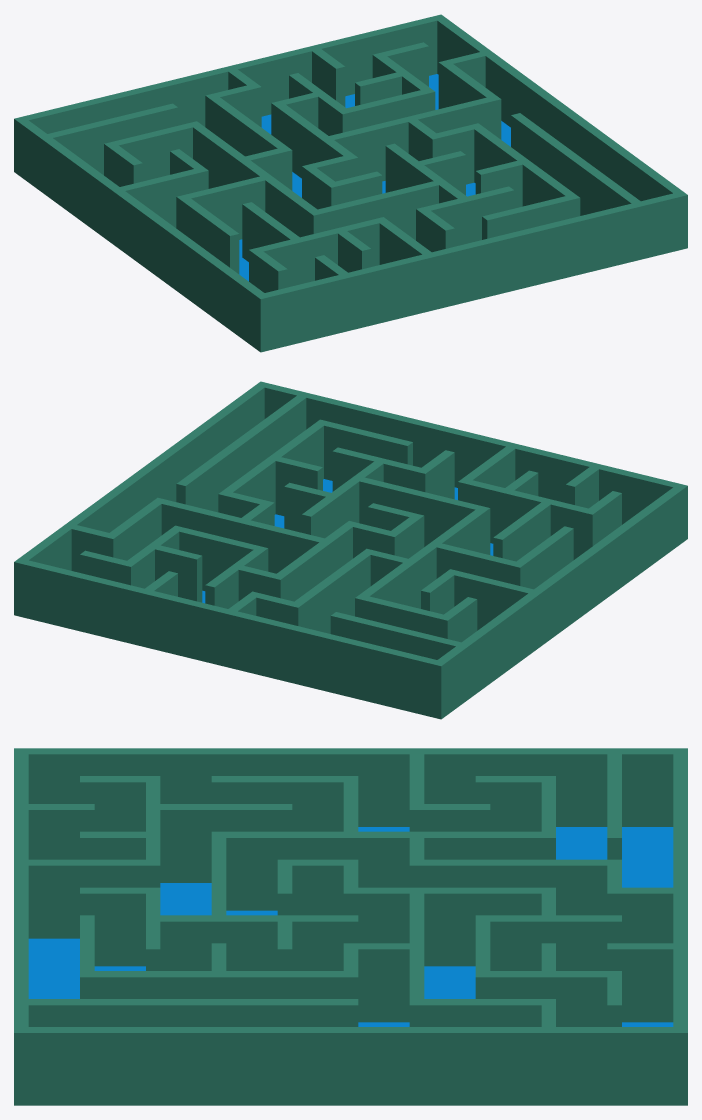
The model's file is Level20Ground.FBX.
The picture shows the model from 3 angles, top to bottom: view 1: azimuth 30°, elevation 25°; view 2: azimuth 150°, elevation 25°; view 3: azimuth 270°, elevation 25°; orthographic projection. The views are drawn at different scales.
Visible parts, largest first — view 1: pPlane2; view 2: pPlane2; view 3: pPlane2.
Boxes of the visible parts, left/top/right/bottom form: pPlane2: left=14, top=14, right=687, bottom=352; pPlane2: left=14, top=381, right=687, bottom=719; pPlane2: left=14, top=748, right=687, bottom=1105.
Size of the model in its own units: 235 by 28 by 235.
